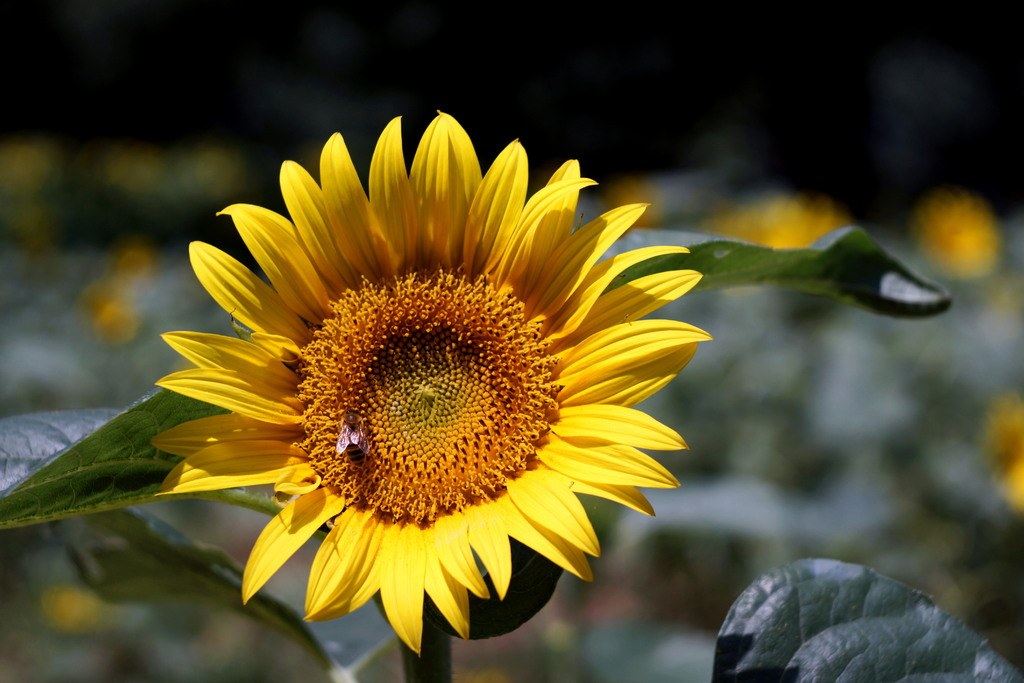bee: (337, 407, 371, 461)
insect: (150, 107, 713, 656)
